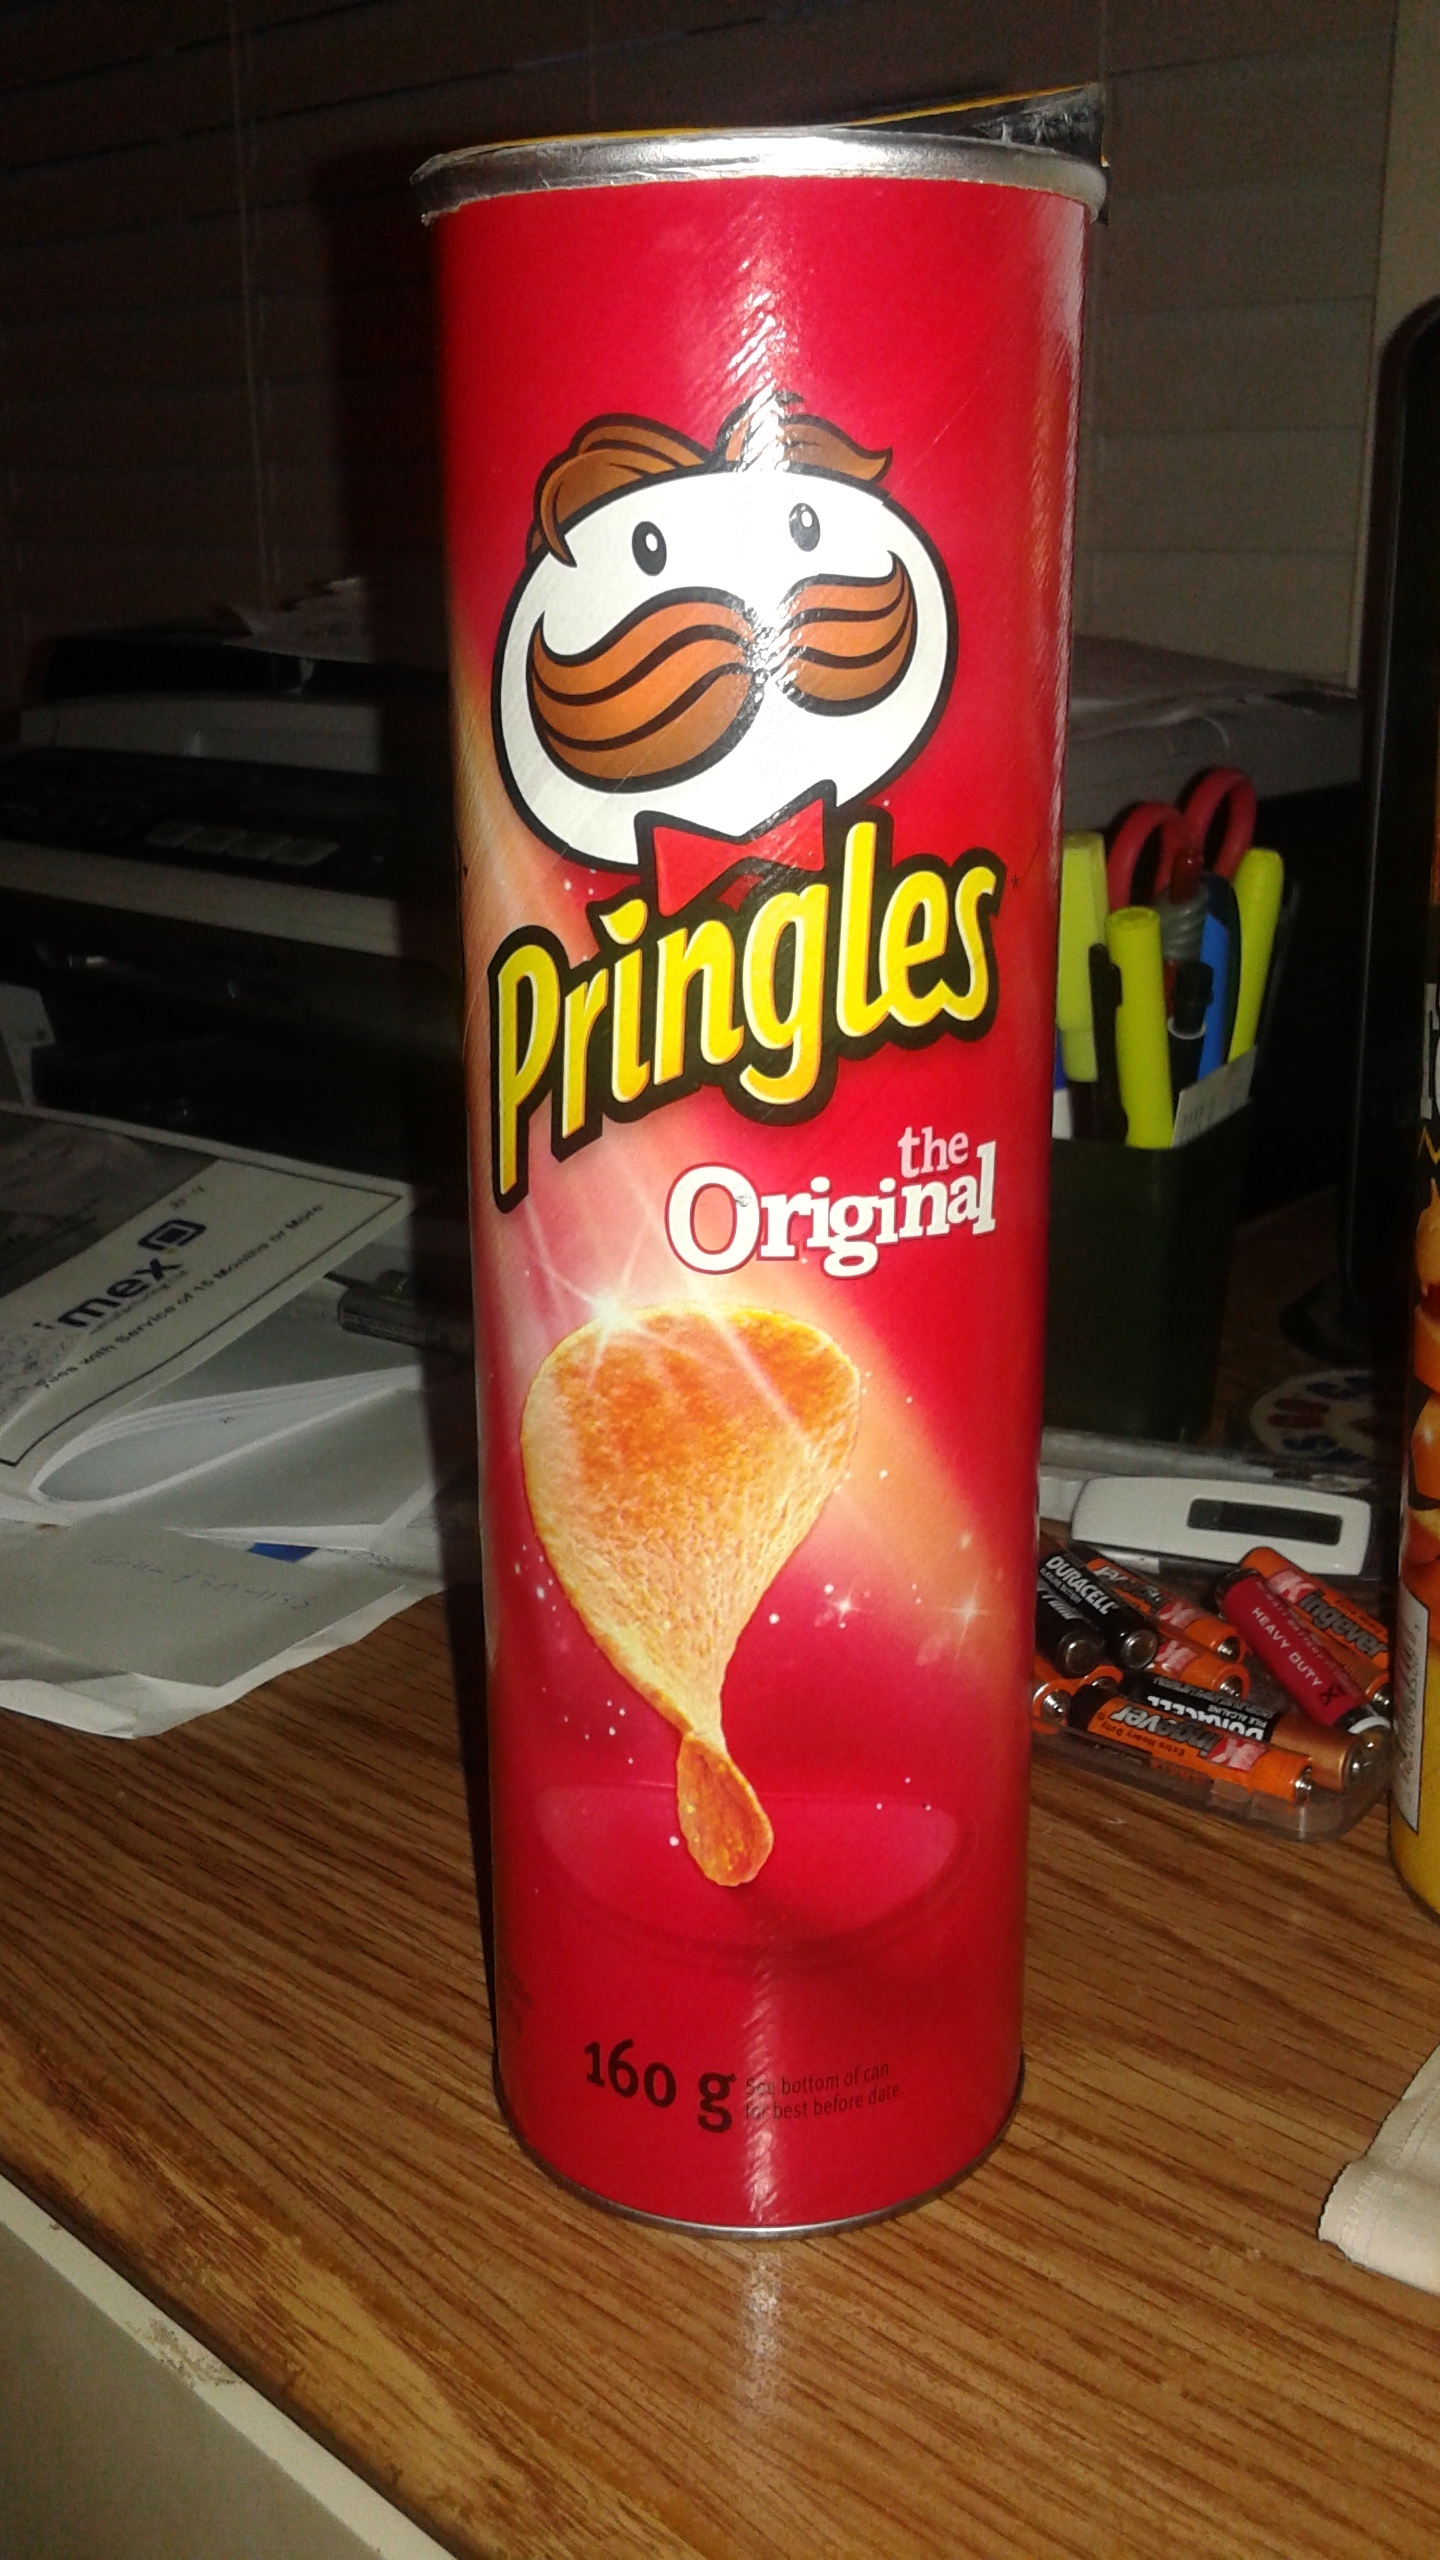pringle: (396, 139, 1108, 2254)
